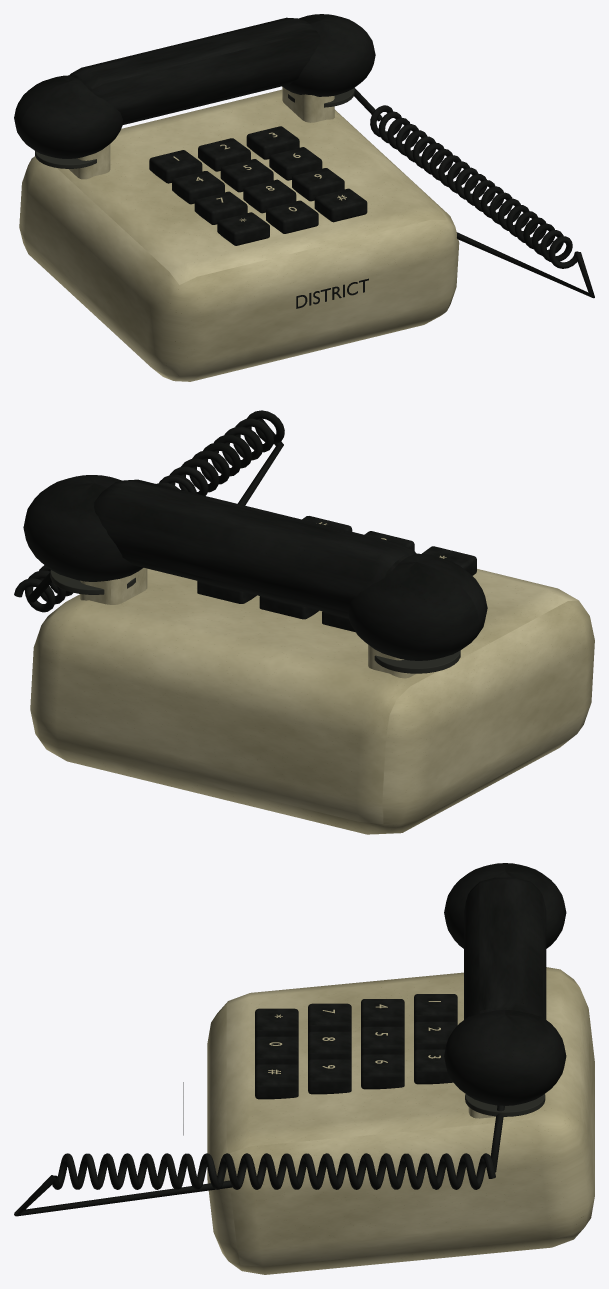
Rendered from landline_phone.glb.
3 renders of one model, top to bottom at view 1: azimuth 30°, elevation 25°; view 2: azimuth 150°, elevation 25°; view 3: azimuth 270°, elevation 25°, orthographic. The views are drawn at different scales.
Visible parts, largest first — view 1: Desk telephone base, Receiver bridge, Coiled receiver cord, Receiver earpiece, Receiver earpiece.001, Telephone keypad.002, Telephone keypad, Telephone keypad.001, Telephone keypad.009, Telephone keypad.011, Telephone keypad.007, Telephone keypad.003 (+9 smaller); view 2: Desk telephone base, Receiver bridge, Receiver earpiece, Receiver earpiece.001, Coiled receiver cord, Receiver cradle.001, Receiver grille, Telephone keypad.010, Telephone keypad.011, Receiver grille.001, Telephone keypad, Telephone cord jack lead; view 3: Desk telephone base, Receiver bridge, Coiled receiver cord, Receiver earpiece.001, Receiver earpiece, Telephone cord jack lead, Telephone keypad.008, Telephone keypad.005, Telephone keypad.002, Telephone keypad, Telephone keypad.003, Telephone keypad.007 (+7 smaller).
Part boxes in pixels (x1=…): Desk telephone base: x1=19, y1=89, x2=459, y2=381; Receiver bridge: x1=69, y1=17, x2=320, y2=124; Coiled receiver cord: x1=370, y1=105, x2=578, y2=268; Receiver earpiece: x1=14, y1=75, x2=122, y2=158; Receiver earpiece.001: x1=282, y1=14, x2=375, y2=96; Telephone keypad.002: x1=314, y1=188, x2=367, y2=222; Telephone keypad: x1=217, y1=212, x2=269, y2=245; Telephone keypad.001: x1=266, y1=200, x2=318, y2=233; Telephone keypad.009: x1=149, y1=150, x2=202, y2=183; Telephone keypad.011: x1=246, y1=126, x2=299, y2=159; Telephone keypad.007: x1=220, y1=159, x2=273, y2=192; Telephone keypad.003: x1=194, y1=191, x2=247, y2=224; Desk telephone base: x1=30, y1=568, x2=594, y2=834; Receiver bridge: x1=94, y1=479, x2=416, y2=617; Receiver earpiece: x1=347, y1=553, x2=487, y2=660; Receiver earpiece.001: x1=23, y1=475, x2=143, y2=581; Coiled receiver cord: x1=14, y1=410, x2=284, y2=612; Receiver cradle.001: x1=80, y1=568, x2=147, y2=604; Receiver grille: x1=374, y1=650, x2=460, y2=673; Telephone keypad.010: x1=259, y1=596, x2=318, y2=619; Telephone keypad.011: x1=197, y1=581, x2=256, y2=603; Receiver grille.001: x1=50, y1=570, x2=135, y2=594; Telephone keypad: x1=422, y1=546, x2=476, y2=575; Telephone cord jack lead: x1=237, y1=418, x2=283, y2=505; Desk telephone base: x1=207, y1=967, x2=594, y2=1274; Receiver bridge: x1=464, y1=877, x2=546, y2=1019; Coiled receiver cord: x1=51, y1=1153, x2=495, y2=1189; Receiver earpiece.001: x1=444, y1=1010, x2=566, y2=1105; Receiver earpiece: x1=444, y1=863, x2=566, y2=948; Telephone cord jack lead: x1=14, y1=1175, x2=232, y2=1216; Telephone keypad.008: x1=361, y1=1054, x2=404, y2=1089; Telephone keypad.005: x1=308, y1=1059, x2=351, y2=1094; Telephone keypad.002: x1=255, y1=1064, x2=298, y2=1099; Telephone keypad: x1=255, y1=1008, x2=298, y2=1039; Telephone keypad.003: x1=308, y1=1003, x2=351, y2=1034; Telephone keypad.007: x1=361, y1=1026, x2=404, y2=1056.
Bounding box in the file's own units: 0.2721 × 0.16 × 0.3181.
3 materials, 2 textured.
